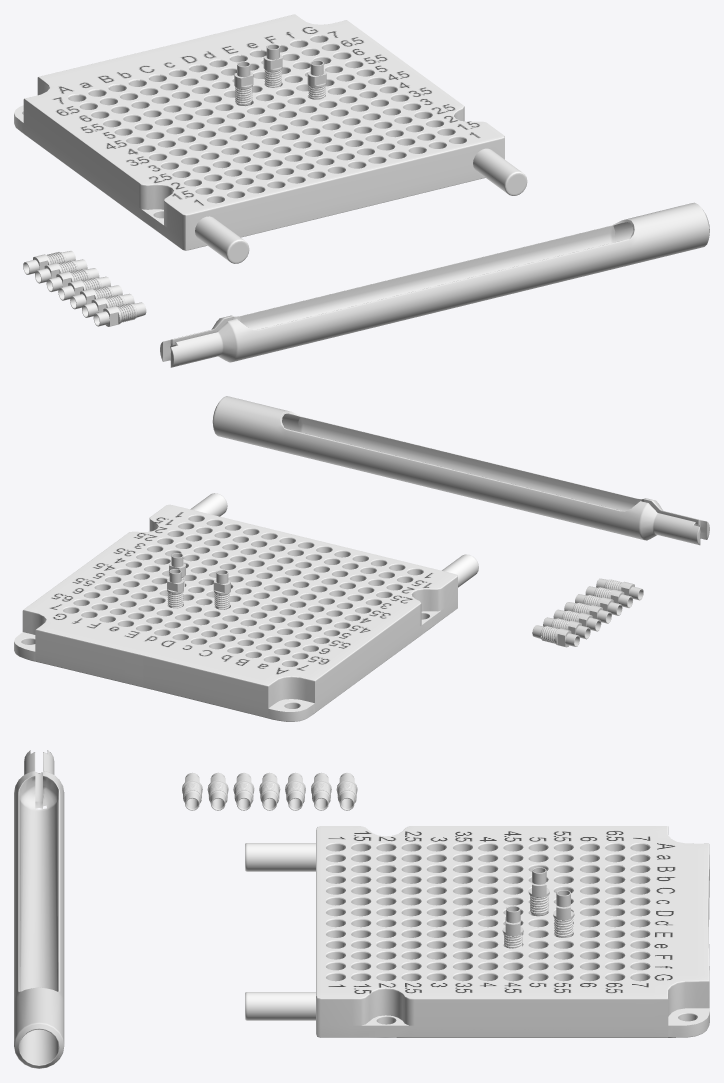
Rendered from Device_2_5.glb.
3 renders of one model, top to bottom at view 1: azimuth 30°, elevation 25°; view 2: azimuth 150°, elevation 25°; view 3: azimuth 270°, elevation 25°, orthographic. The views are drawn at different scales.
Visible parts, largest first — view 1: Main_Frame, Wrench1, side_Rod_2, side_Rod_1, nut_1, nut_8, nut_9, nut_10, nut_6, nut_3, nut_4, nut_5 (+2 smaller); view 2: Main_Frame, Wrench1, nut_7, side_Rod_1, nut_8, nut_9, side_Rod_2, nut_5, nut_2, nut_4, nut_3, nut_6 (+1 smaller); view 3: Main_Frame, Wrench1, side_Rod_1, side_Rod_2, nut_8, nut_9, nut_10, nut_2, nut_3, nut_7, nut_4, nut_5 (+2 smaller).
Boxes of the visible parts, x1,y1,x2,y2 form: Main_Frame: (14,14,504,250); Wrench1: (160,202,709,367); side_Rod_2: (473,148,527,195); side_Rod_1: (195,216,249,263); nut_1: (93,302,146,326); nut_8: (234,61,253,106); nut_9: (263,44,282,87); nut_10: (307,60,326,99); nut_6: (35,259,87,283); nut_3: (70,285,122,309); nut_4: (58,276,110,300); nut_5: (46,268,99,292); Main_Frame: (14,504,457,721); Wrench1: (212,396,709,545); nut_7: (532,625,579,647); side_Rod_1: (442,554,478,587); nut_8: (213,570,230,609); nut_9: (167,569,183,608); side_Rod_2: (190,493,227,516); nut_5: (553,609,601,631); nut_2: (585,586,632,607); nut_4: (564,602,611,623); nut_3: (575,594,622,615); nut_6: (543,617,590,639); Main_Frame: (316,826,709,1037); Wrench1: (14,750,64,1068); side_Rod_1: (245,843,315,871); side_Rod_2: (245,992,315,1020); nut_8: (528,867,549,916); nut_9: (553,890,574,937); nut_10: (502,906,523,948); nut_2: (207,772,228,810); nut_3: (233,773,254,810); nut_7: (336,773,357,810); nut_4: (259,772,280,810); nut_5: (285,772,305,810).
Size of the model in its own units: 0.0433 by 0.00577 by 0.0444.
14 materials, 3 textured.
